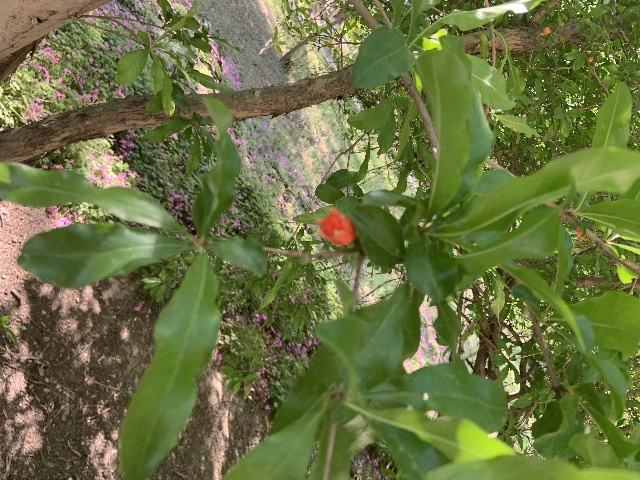bud: (542, 26, 550, 34), (587, 57, 593, 62)
flower: (316, 207, 356, 246), (575, 228, 584, 240)
